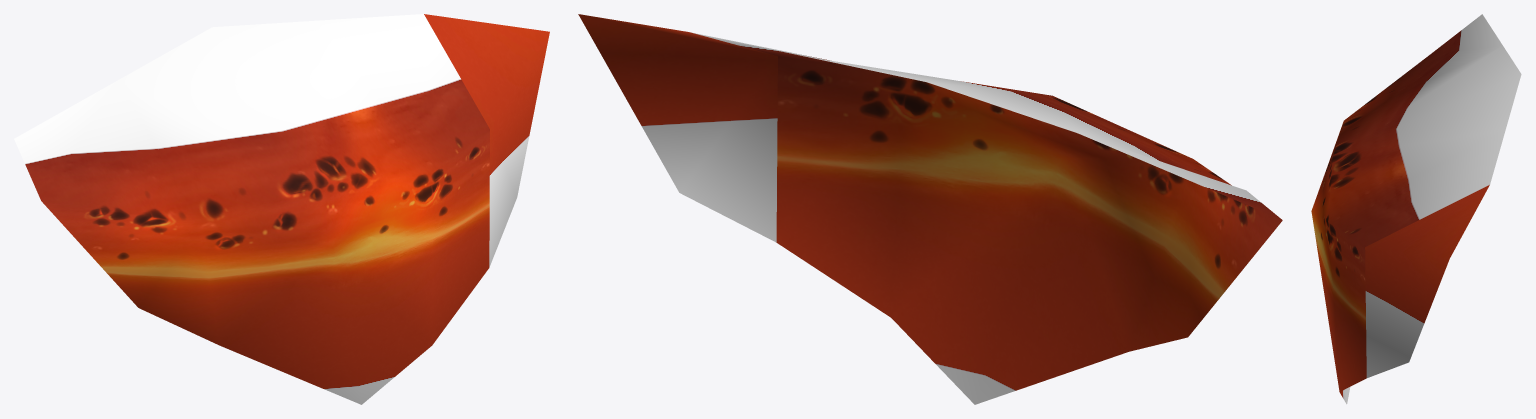
Rendered from Lava Surface.FBX.
3 renders of one model, left to right at view 1: azimuth 30°, elevation 25°; view 2: azimuth 150°, elevation 25°; view 3: azimuth 270°, elevation 25°, orthographic. The views are drawn at different scales.
Parts seen in each view (by area): view 1: Lava Surface; view 2: Lava Surface; view 3: Lava Surface.
Boxes of the visible parts, x1,y1,x2,y2 form: Lava Surface: (14,14,549,404); Lava Surface: (578,14,1282,404); Lava Surface: (1311,14,1521,404).
Size of the model in its own units: 422 by 157 by 252.
